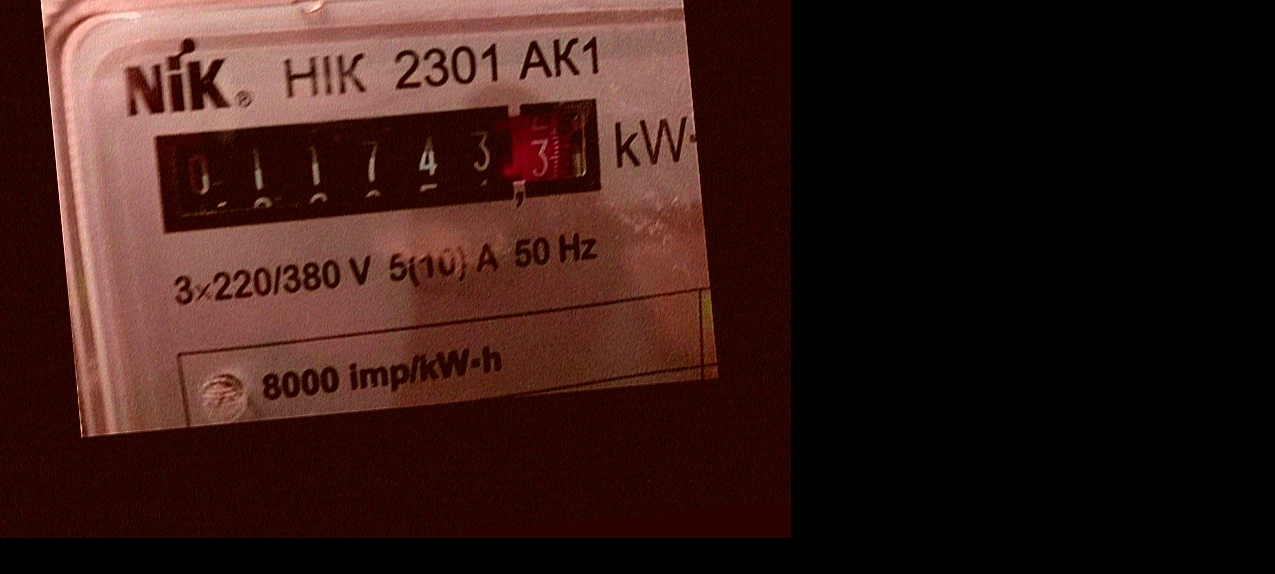0: (179, 149, 212, 199)
1: (298, 140, 324, 189), (244, 145, 265, 195)
3: (462, 126, 494, 175), (523, 135, 551, 181)
4: (408, 130, 440, 180)
7: (354, 136, 383, 186)
screen: (134, 85, 609, 245)
